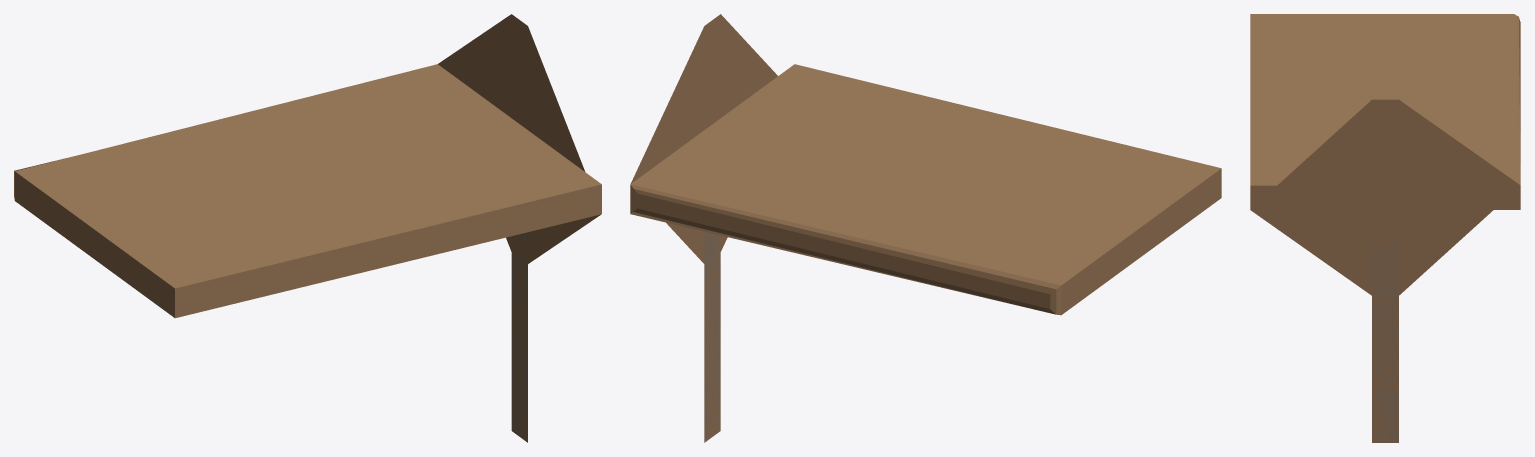
The model's file is modelled_table.out_table.glb.
The picture shows the model from 3 angles, left to right: view 1: azimuth 30°, elevation 25°; view 2: azimuth 150°, elevation 25°; view 3: azimuth 270°, elevation 25°; orthographic projection. The views are drawn at different scales.
Visible parts, largest first — view 1: Table; view 2: Table; view 3: Table.
Boxes of the visible parts, left/top/right/bottom form: Table: left=14, top=14, right=601, bottom=442; Table: left=630, top=14, right=1221, bottom=442; Table: left=1250, top=14, right=1520, bottom=442.
Size of the model in its own units: 3 by 2.8 by 2.
